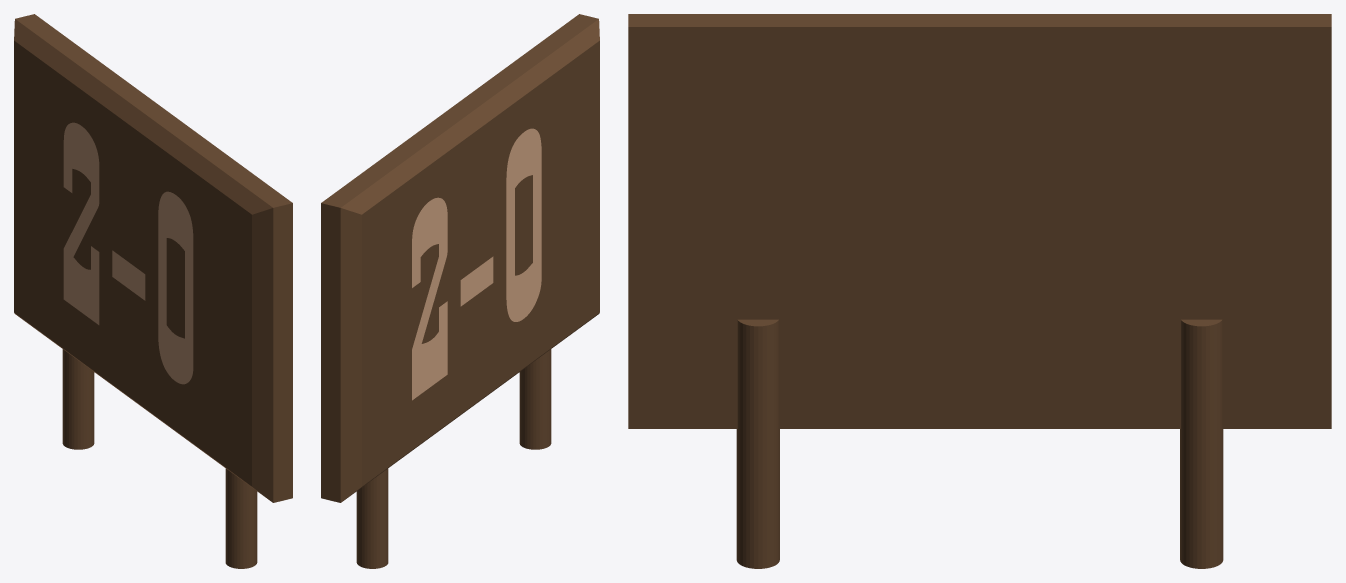
3 renders of one model, left to right at view 1: azimuth 30°, elevation 25°; view 2: azimuth 150°, elevation 25°; view 3: azimuth 270°, elevation 25°, orthographic. The views are drawn at different scales.
Visible parts, largest first — view 1: Cube.007, Text, Cylinder, Cylinder.001; view 2: Cube.007, Text, Cylinder.001, Cylinder; view 3: Cube.007, Cylinder, Cylinder.001.
Boxes of the visible parts, <box> form: Cube.007: <box>14,14,292,502</box>; Text: <box>63,122,193,384</box>; Cylinder: <box>62,349,94,449</box>; Cylinder.001: <box>225,468,257,568</box>; Cube.007: <box>321,14,599,502</box>; Text: <box>412,128,541,400</box>; Cylinder.001: <box>519,349,551,449</box>; Cylinder: <box>356,468,388,568</box>; Cube.007: <box>628,14,1331,428</box>; Cylinder: <box>1180,319,1223,568</box>; Cylinder.001: <box>736,319,779,568</box>.
Size of the model in its own units: 28.97 by 266 by 317.
